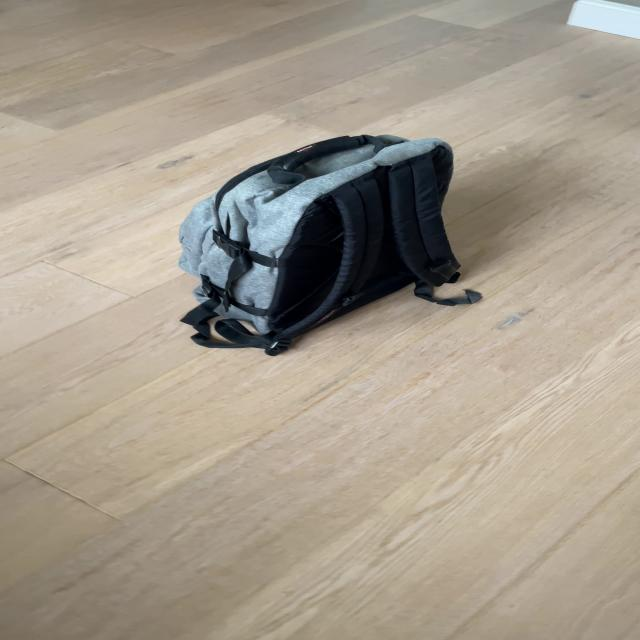backpack: (162, 120, 472, 360)
